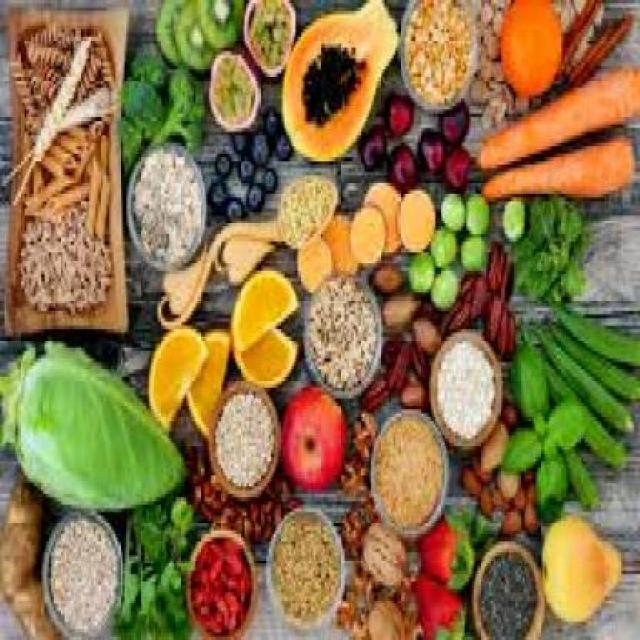garbage: (0, 8, 638, 637)
